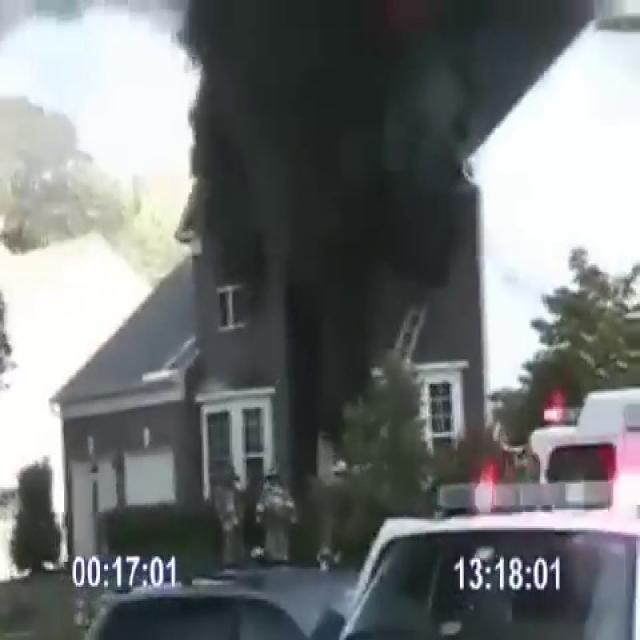Smoke: (6, 0, 624, 469), (163, 0, 475, 315)
